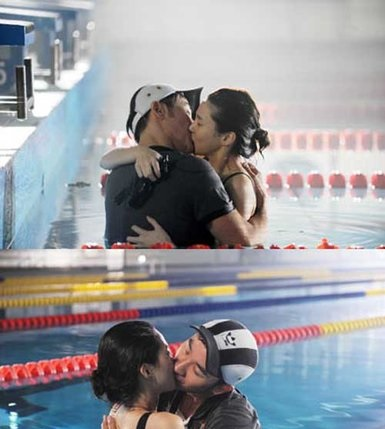face: (167, 335, 213, 390), (158, 90, 192, 145), (143, 334, 175, 392), (187, 100, 221, 153)
